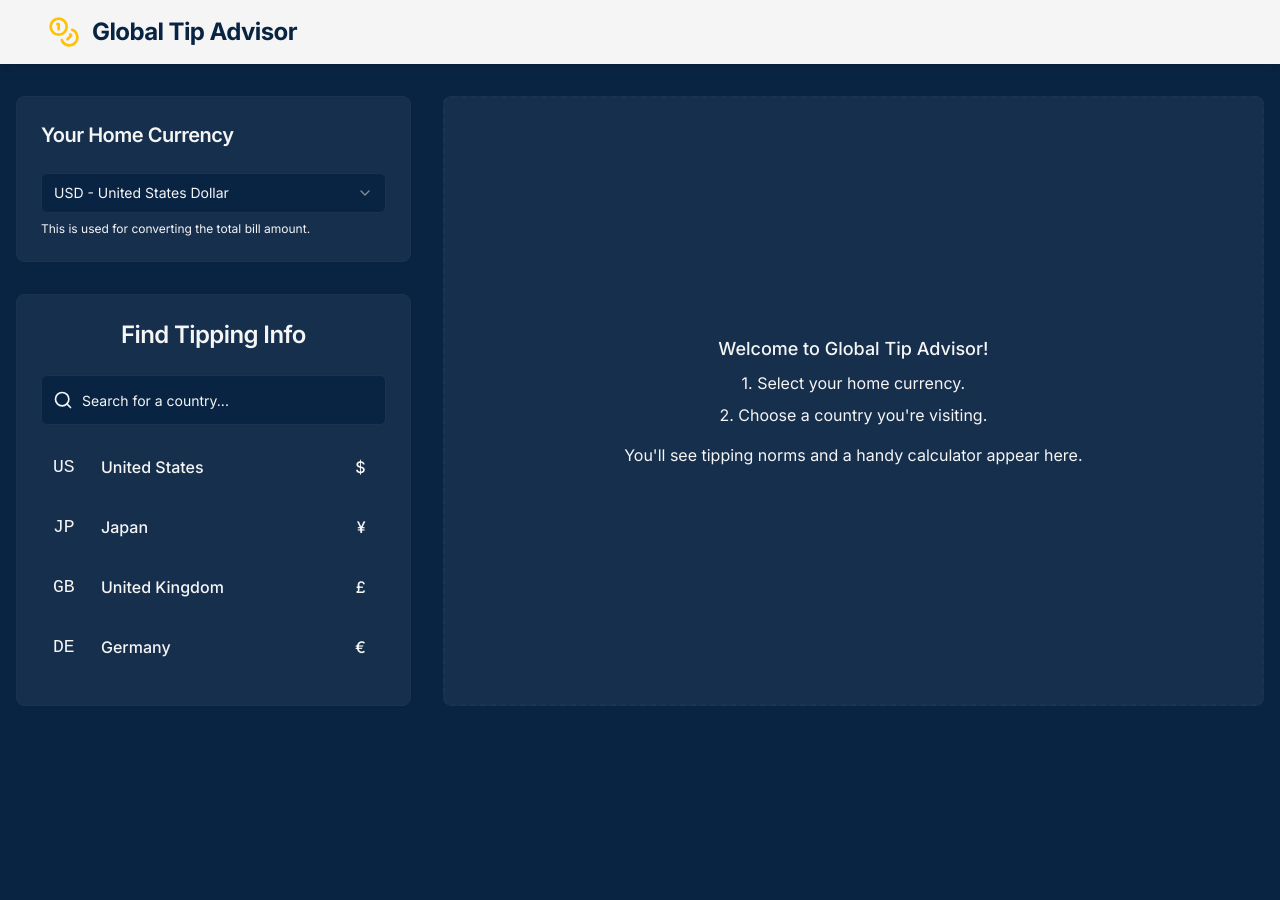
Test case: Index Page › allows selecting a country and displays country info and calculator
Expected: the heading "Find Tipping Info" is shown, [121,320,306,349]
Click the button "US United States $" at x=152, y=467, box [41,441,378,493]
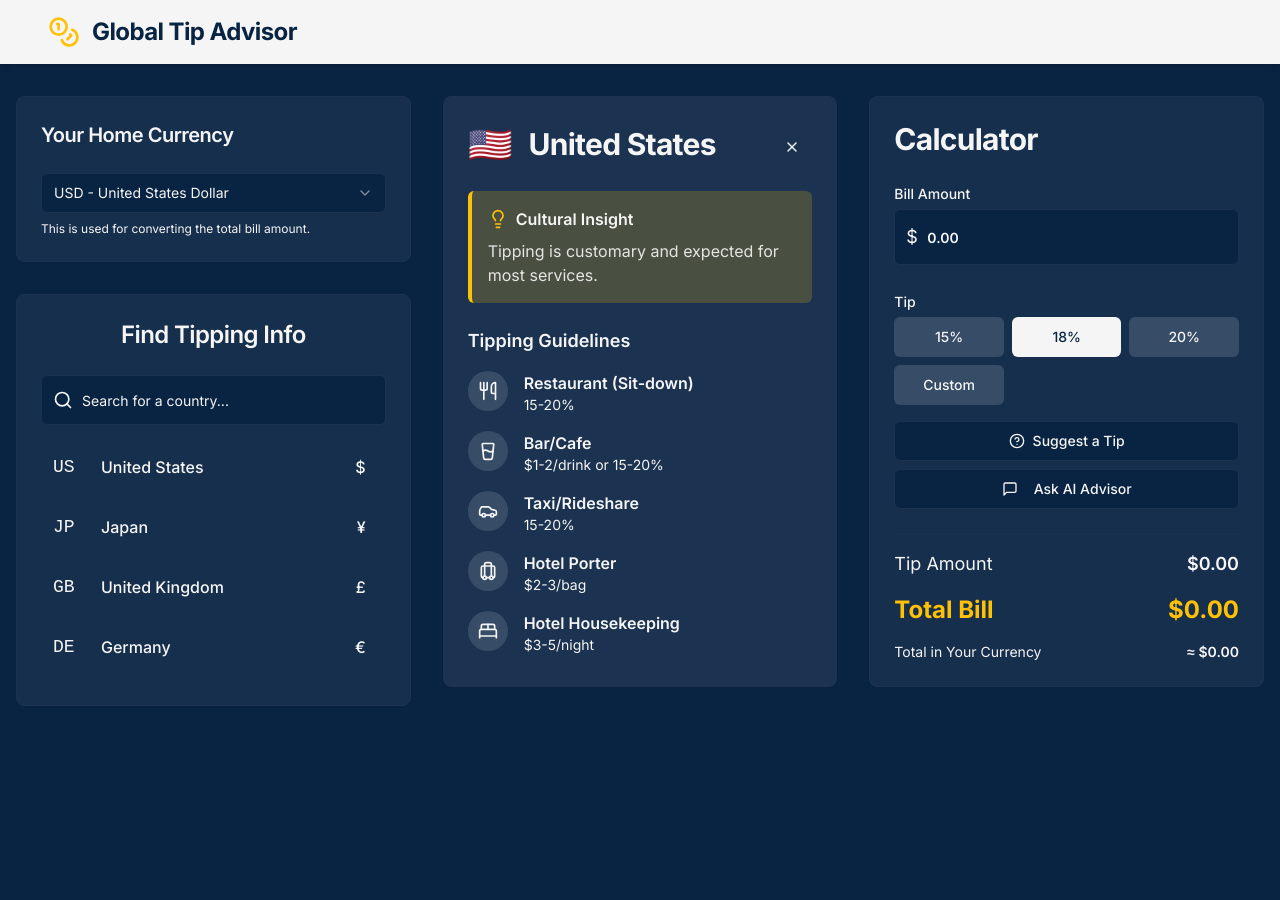
Expected: the heading "Calculator" is shown, [894,121,1038,157]
Result: the heading "United States" is shown at [529,126,716,162]
